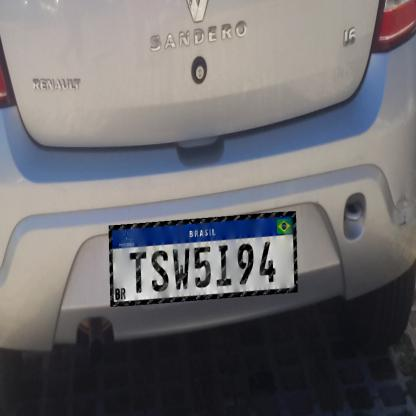PlacaM: (108, 211, 298, 307)
